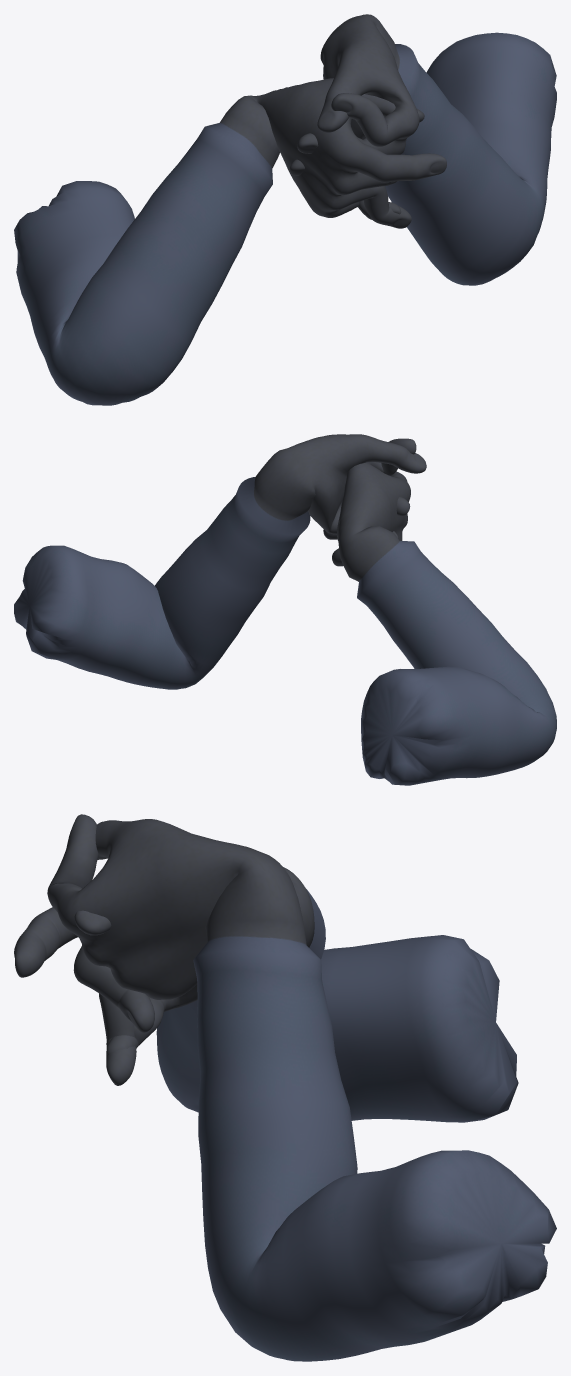
File: muhafiz_pistol.fbx
3 views of the same model, one above another, from view 1: azimuth 30°, elevation 25°; view 2: azimuth 150°, elevation 25°; view 3: azimuth 270°, elevation 25° (orthographic). The views are drawn at different scales.
Visible parts, largest first — view 1: RightArm, LeftArm; view 2: LeftArm, RightArm; view 3: LeftArm, RightArm.
Boxes of the visible parts, <box> form: RightArm: <box>14,78,446,405</box>; LeftArm: <box>290,14,556,285</box>; LeftArm: <box>14,434,426,689</box>; RightArm: <box>323,462,556,785</box>; LeftArm: <box>47,814,556,1361</box>; RightArm: <box>14,867,518,1122</box>.
Bounding box in the file's own units: 0.5574 × 0.2995 × 0.3357.
